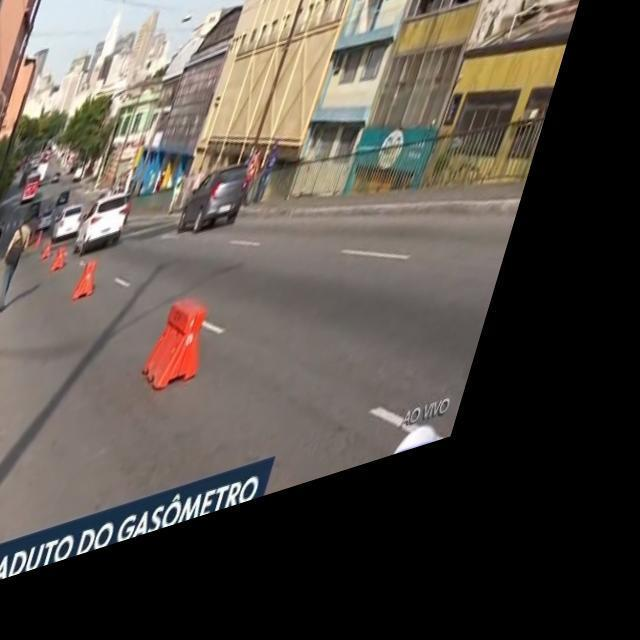-: (499, 0, 634, 11)
